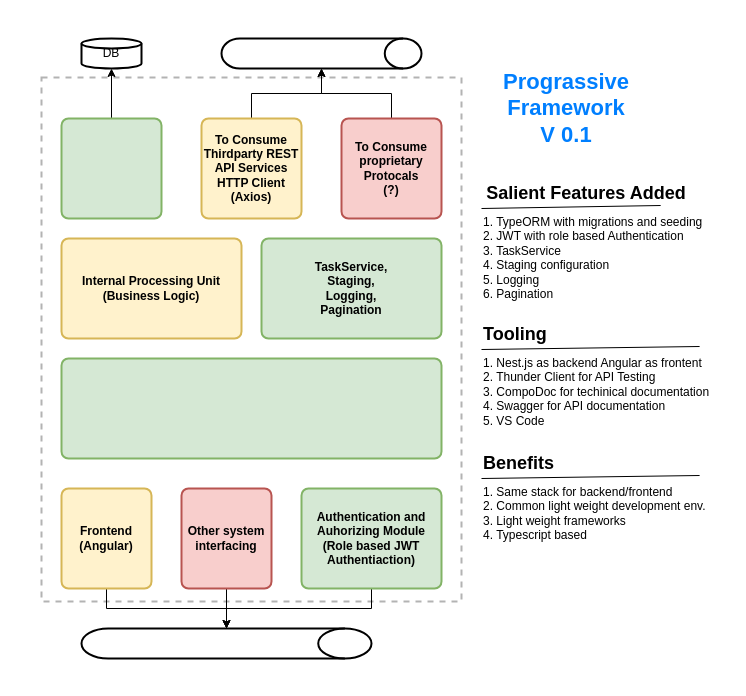
Some shapes in this 746 by 696 pixel diagram are drawn without their labels. The box of each missing label's shape, as (x1, y1, x2, y2) in pixels:
Clients: (80, 627, 372, 659)
DB independent Persistnace framework (TypeORM): (60, 117, 162, 219)
Internet: (220, 37, 422, 69)
REST API: (60, 357, 442, 459)
